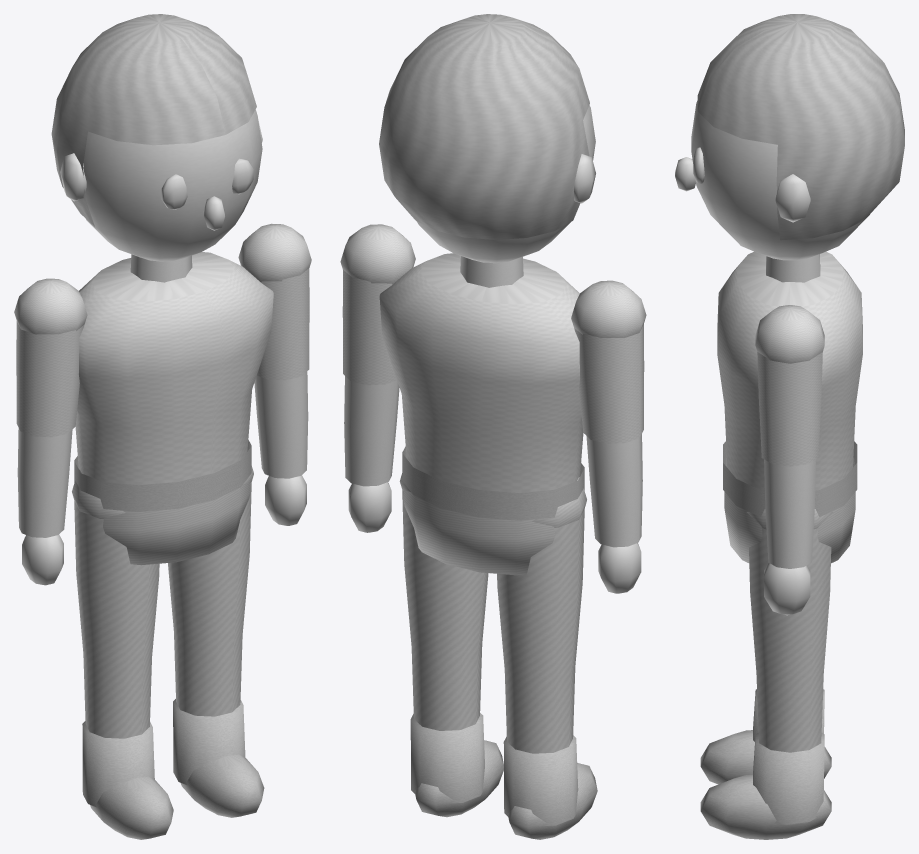
The model's file is char_base_a.glb.
The picture shows the model from 3 angles, left to right: view 1: azimuth 30°, elevation 25°; view 2: azimuth 150°, elevation 25°; view 3: azimuth 270°, elevation 25°; orthographic projection. The views are drawn at different scales.
Parts seen in each view (by area): view 1: core, leg_r, leg_l, arm_r, arm_l; view 2: core, leg_r, leg_l, arm_r, arm_l; view 3: core, leg_l, arm_l, leg_r.
Part boxes in pixels (left/top/right/bottom): core: left=51, top=14, right=273, bottom=565; leg_r: left=72, top=469, right=173, bottom=839; leg_l: left=168, top=466, right=264, bottom=817; arm_r: left=14, top=278, right=87, bottom=585; arm_l: left=238, top=223, right=311, bottom=525; core: left=379, top=14, right=595, bottom=575; leg_r: left=497, top=477, right=597, bottom=839; leg_l: left=399, top=473, right=503, bottom=817; arm_r: left=571, top=280, right=646, bottom=593; arm_l: left=340, top=224, right=415, bottom=532; core: left=675, top=14, right=904, bottom=563; leg_l: left=700, top=509, right=833, bottom=839; arm_l: left=755, top=305, right=824, bottom=615; leg_r: left=700, top=689, right=831, bottom=784.
Bounding box in the file's own units: 0.5613 × 1.46 × 0.3837.
Materials: 6 (6 with a texture image).
